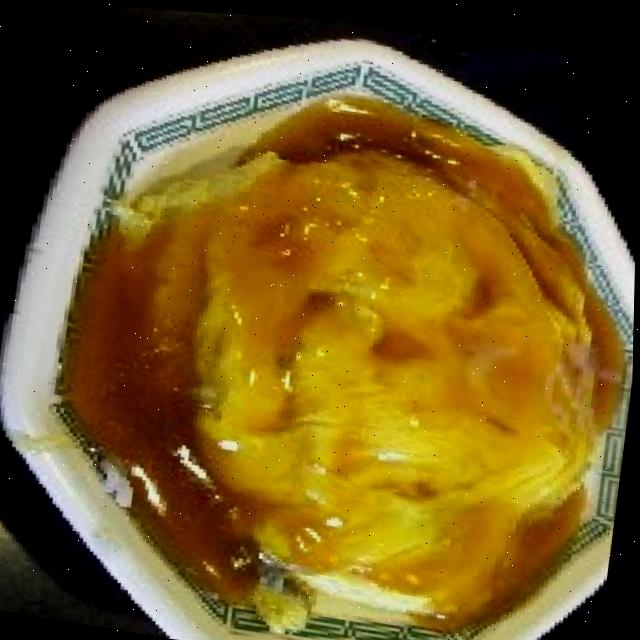面条主食: (20, 48, 639, 640)
